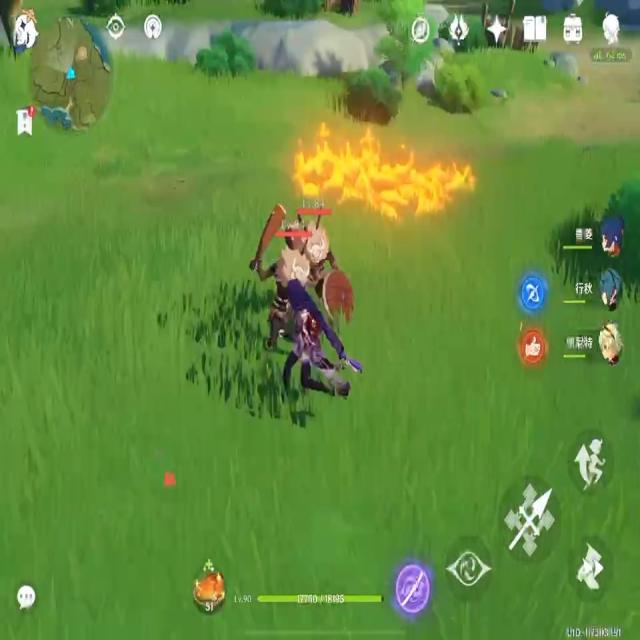genshin-hilichurls: (295, 183, 341, 268), (266, 207, 310, 292)
